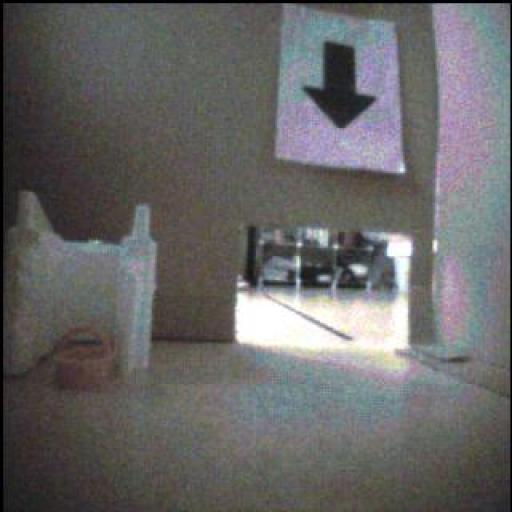arrow: (305, 43, 377, 129)
